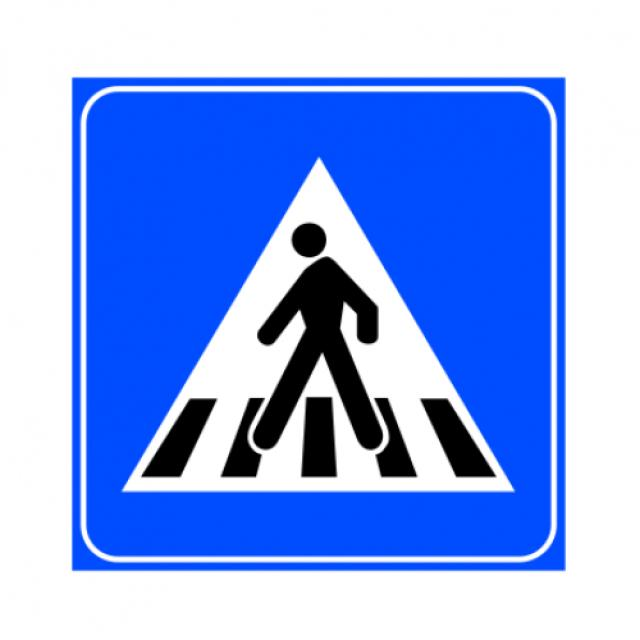Pedestrian crosswalk: (67, 71, 571, 574)
